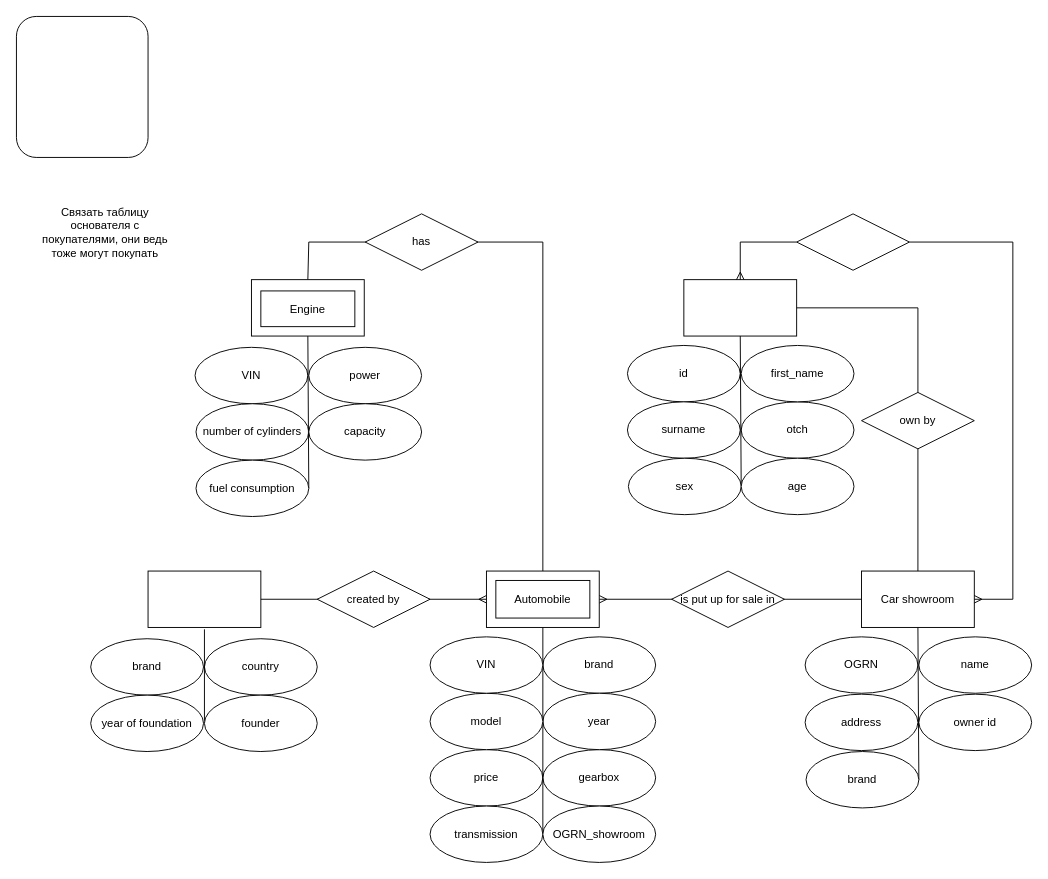
Some shapes in this 1048 by 879 pixel diagram are drawn without their labels. Each missing label, with the centre of its shape:
"- Automobile - Manufacturer - Car showroom - Customer - engine" goes at point 82,86.
"Customer" goes at point 740,307.
"Manufacturer" goes at point 204,598.
"visit" goes at point 852,241.
